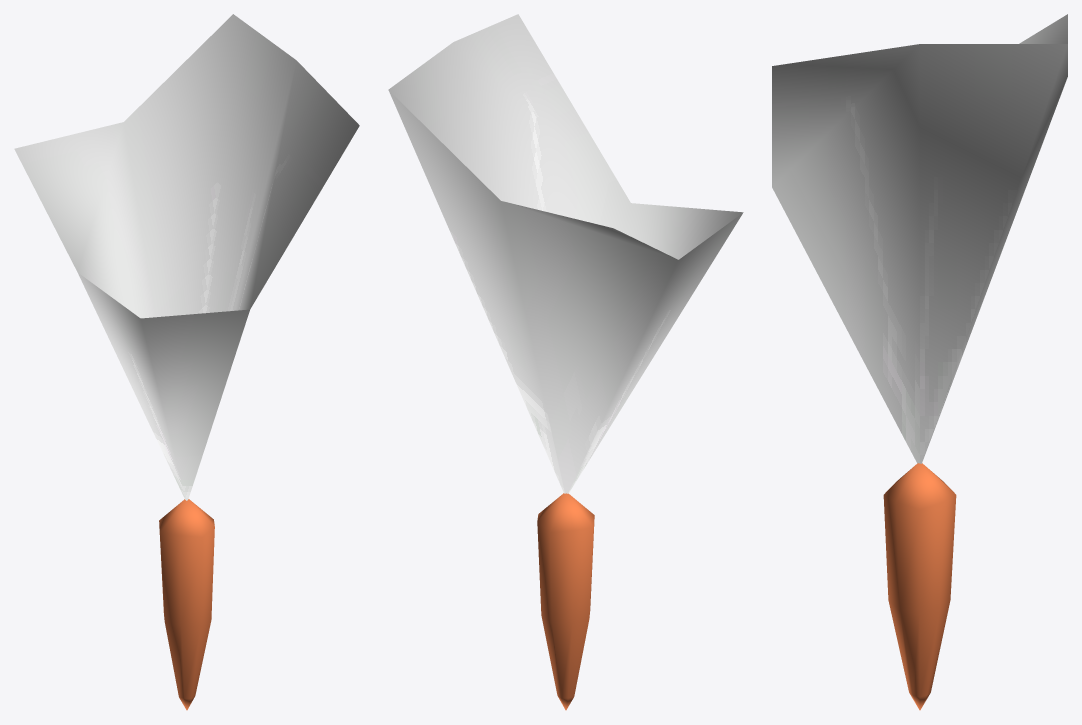
File: Pickable_Carrot.fbx
3 renders of one model, left to right at view 1: azimuth 30°, elevation 25°; view 2: azimuth 150°, elevation 25°; view 3: azimuth 270°, elevation 25°, orthographic. The views are drawn at different scales.
Visible parts, largest first — view 1: blast, carrot; view 2: blast, carrot; view 3: blast, carrot.
Boxes of the visible parts, x1,y1,x2,y2 form: blast: (14,14,359,500); carrot: (159,499,214,710); blast: (388,14,743,493); carrot: (537,493,594,710); blast: (772,14,1067,463); carrot: (883,463,956,710).
Size of the model in its own units: 0.4195 by 1.14 by 0.4195.
Materials: 2 (1 with a texture image).
